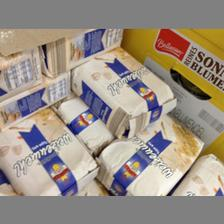Mehl: (71, 45, 178, 138), (95, 113, 203, 195), (1, 105, 100, 194)
